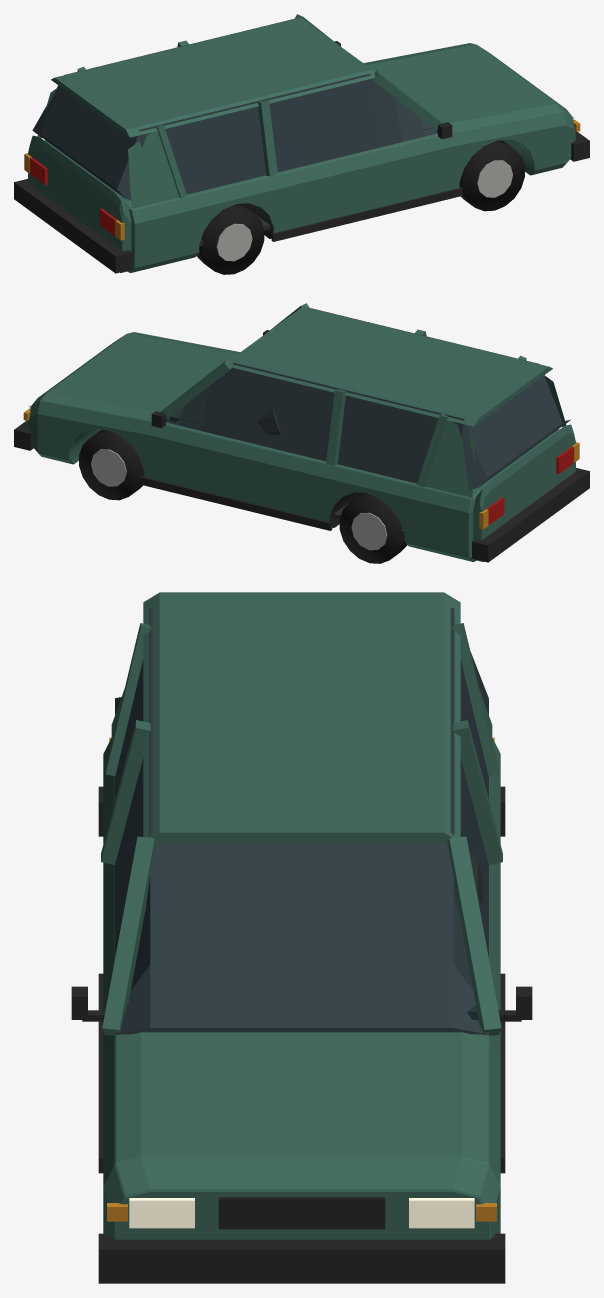
Rendered from shar.glb.
3 renders of one model, top to bottom at view 1: azimuth 30°, elevation 25°; view 2: azimuth 150°, elevation 25°; view 3: azimuth 270°, elevation 25°, orthographic. The views are drawn at different scales.
Parts seen in each view (by area): view 1: Body, Greenhouse, Roof, Bumper_R, Pillar_C_R, Tire_RR, Tire_FR, Sill_R, Hub_RR, Hub_FR, Pillar_B_R, Pillar_A_R (+2 smaller); view 2: Body, Greenhouse, Roof, Bumper_R, Tire_RL, Tire_FL, Pillar_C_L, Sill_L, Hub_RL, Hub_FL, Pillar_B_L, Pillar_A_L (+3 smaller); view 3: Roof, Body, Greenhouse, Bumper_F, Grille, Pillar_A_L, Pillar_A_R, Pillar_B_L, Pillar_B_R, Lamp_Head_L, Lamp_Head_R, Pillar_Cedge_L (+3 smaller).
Part boxes in pixels (<box>): Body: <box>28,43,575,272</box>; Greenhouse: <box>32,18,437,200</box>; Roof: <box>51,17,375,137</box>; Bumper_R: <box>14,179,131,273</box>; Pillar_C_R: <box>128,129,179,208</box>; Tire_RR: <box>196,204,264,274</box>; Tire_FR: <box>459,140,524,211</box>; Sill_R: <box>271,187,462,241</box>; Hub_RR: <box>216,223,252,261</box>; Hub_FR: <box>477,160,512,197</box>; Pillar_B_R: <box>257,100,277,176</box>; Pillar_A_R: <box>372,71,443,129</box>; Body: <box>28,332,575,561</box>; Greenhouse: <box>166,307,570,489</box>; Roof: <box>228,306,552,426</box>; Bumper_R: <box>472,468,589,562</box>; Tire_RL: <box>339,493,407,563</box>; Tire_FL: <box>79,429,144,500</box>; Pillar_C_L: <box>424,418,475,497</box>; Sill_L: <box>141,476,332,530</box>; Hub_RL: <box>351,512,387,550</box>; Hub_FL: <box>91,449,126,486</box>; Pillar_B_L: <box>326,389,346,465</box>; Pillar_A_L: <box>160,360,231,418</box>; Roof: <box>143,592,460,842</box>; Body: <box>103,738,500,1239</box>; Greenhouse: <box>115,607,488,1034</box>; Bumper_F: <box>98,1233,505,1283</box>; Grille: <box>218,1197,385,1229</box>; Pillar_A_L: <box>447,836,501,1035</box>; Pillar_A_R: <box>102,836,156,1035</box>; Pillar_B_L: <box>453,720,502,864</box>; Pillar_B_R: <box>101,720,150,864</box>; Lamp_Head_L: <box>409,1198,474,1228</box>; Lamp_Head_R: <box>129,1198,194,1228</box>; Pillar_Cedge_L: <box>450,623,498,775</box>.
Size of the model in its own units: 4.66 by 1.5 by 1.96.
